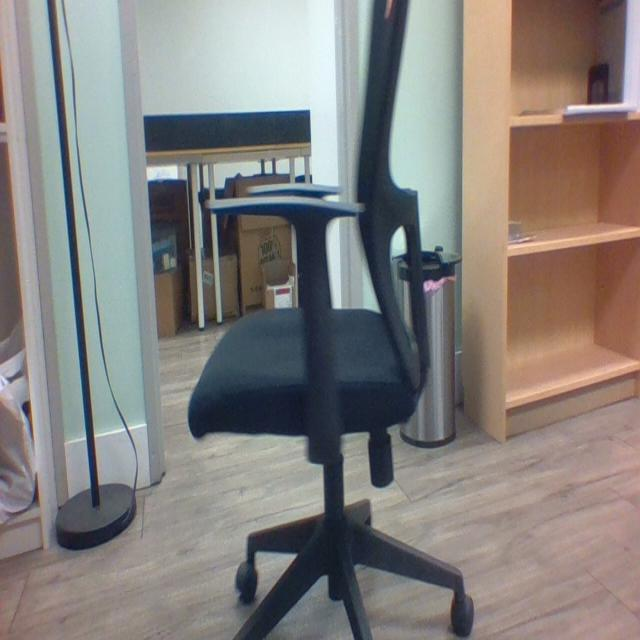chair: (188, 1, 480, 639)
